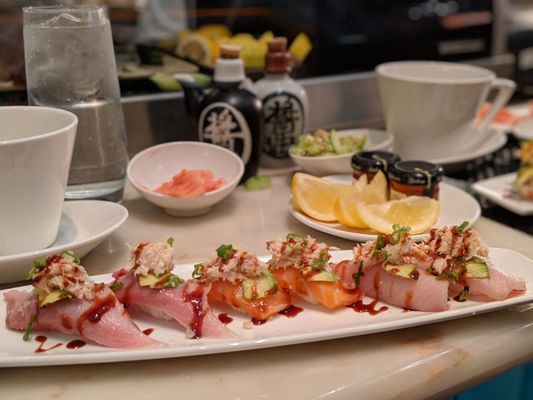pizza: (23, 3, 130, 204), (375, 60, 512, 163), (0, 105, 78, 262), (21, 3, 122, 108)
sushi: (126, 141, 244, 217), (289, 127, 389, 176)
